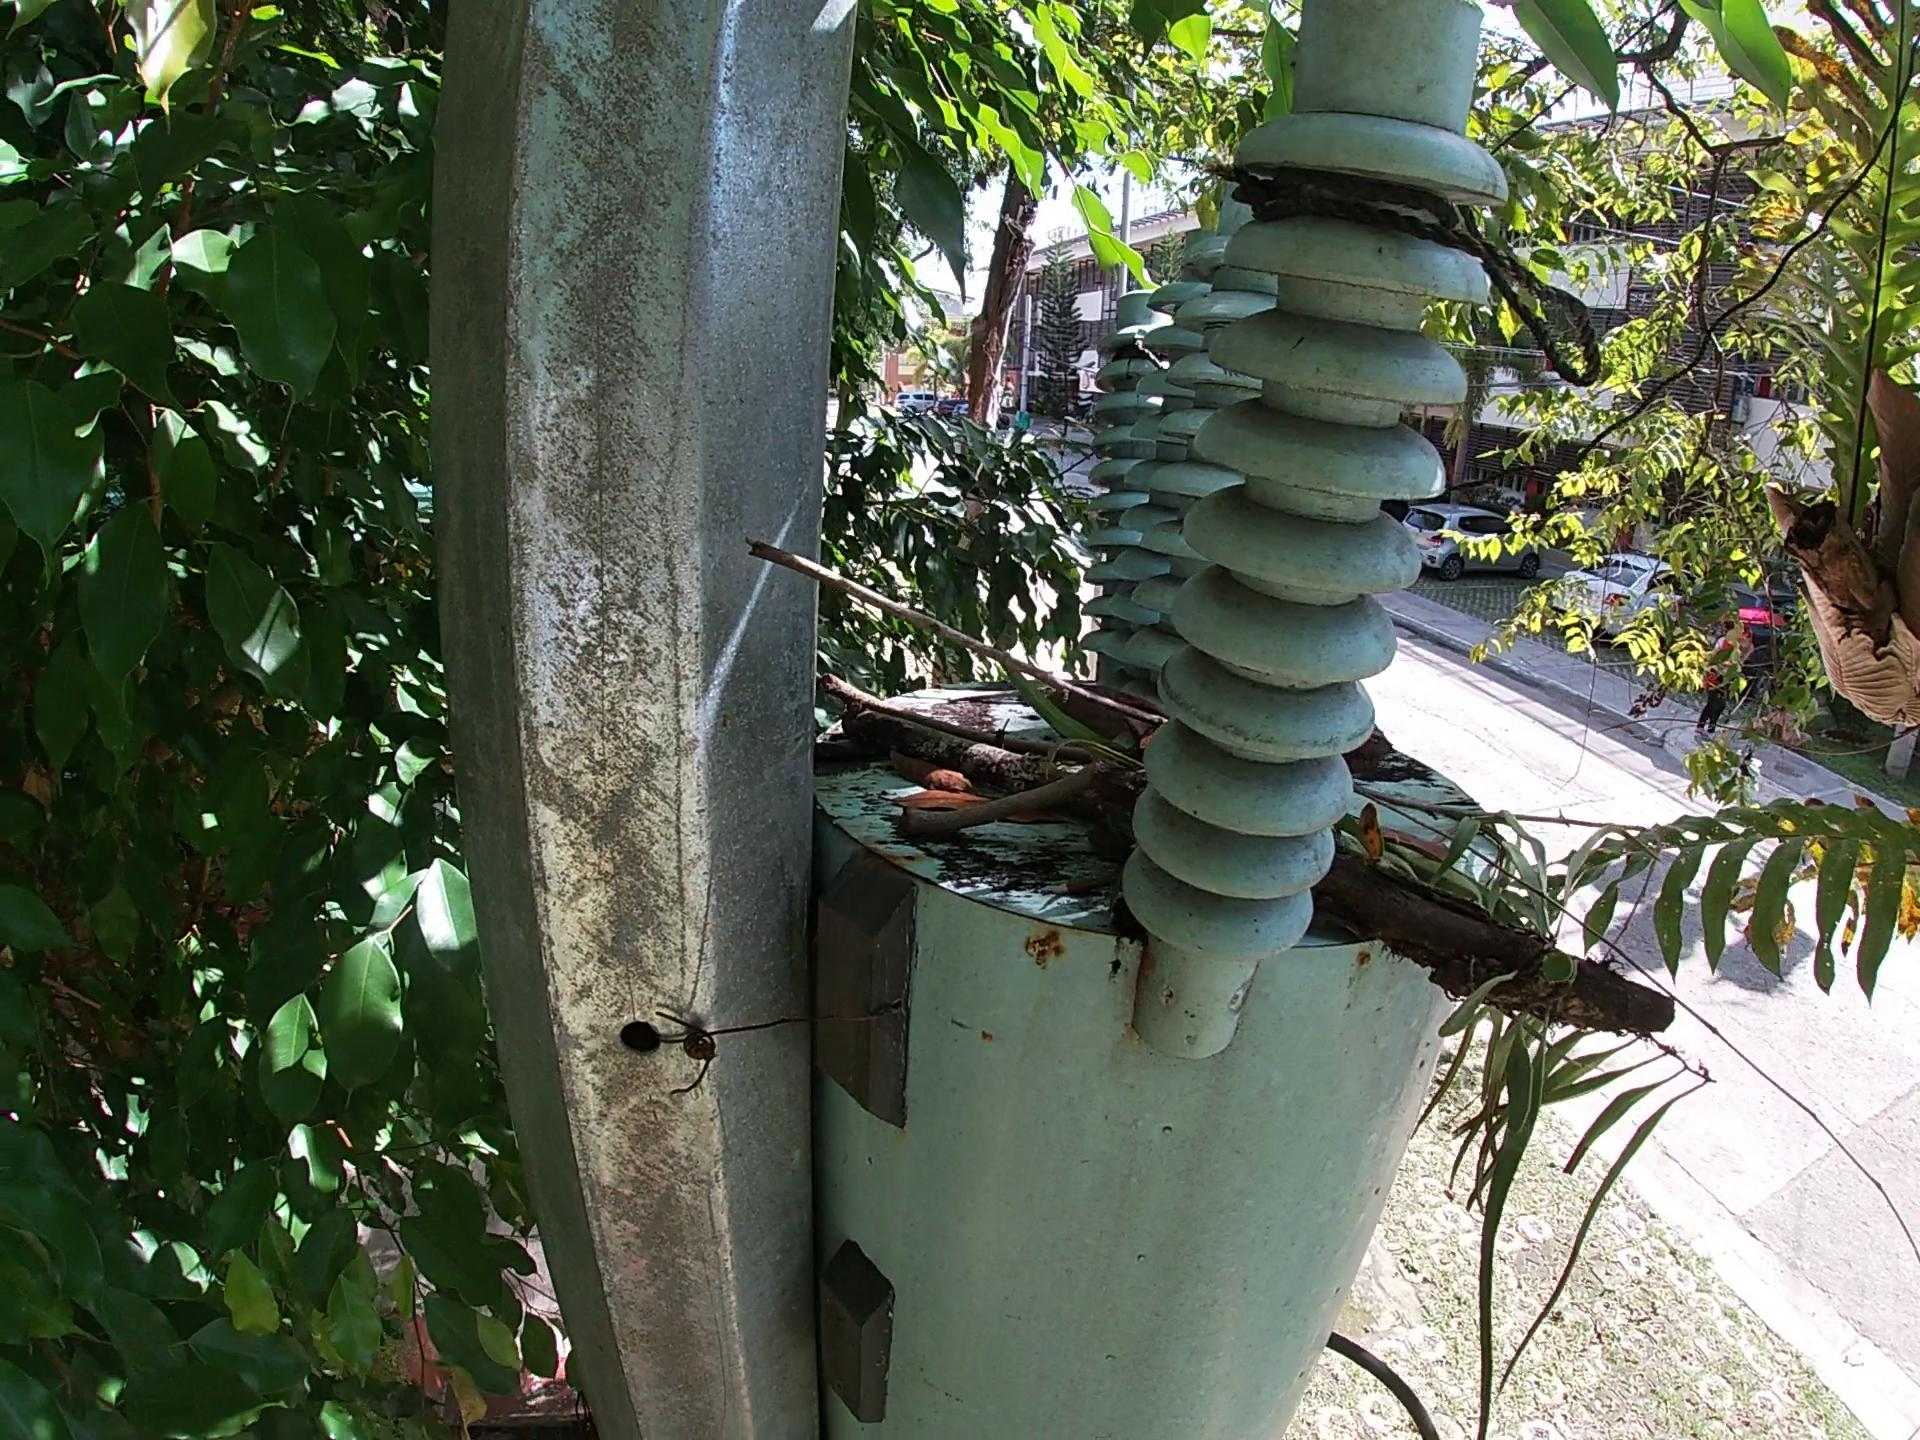branch with leaves: (825, 650, 1689, 1072)
leaf: (872, 740, 968, 829)
mahogany fruit: (825, 653, 954, 740)
tree branch: (760, 535, 1745, 1004), (868, 749, 1228, 944), (821, 650, 1120, 790)
